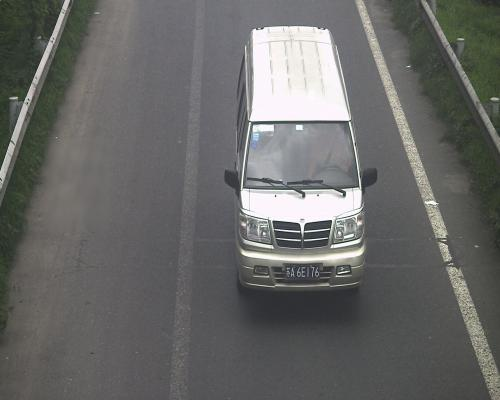Carplate: (282, 259, 323, 283)
